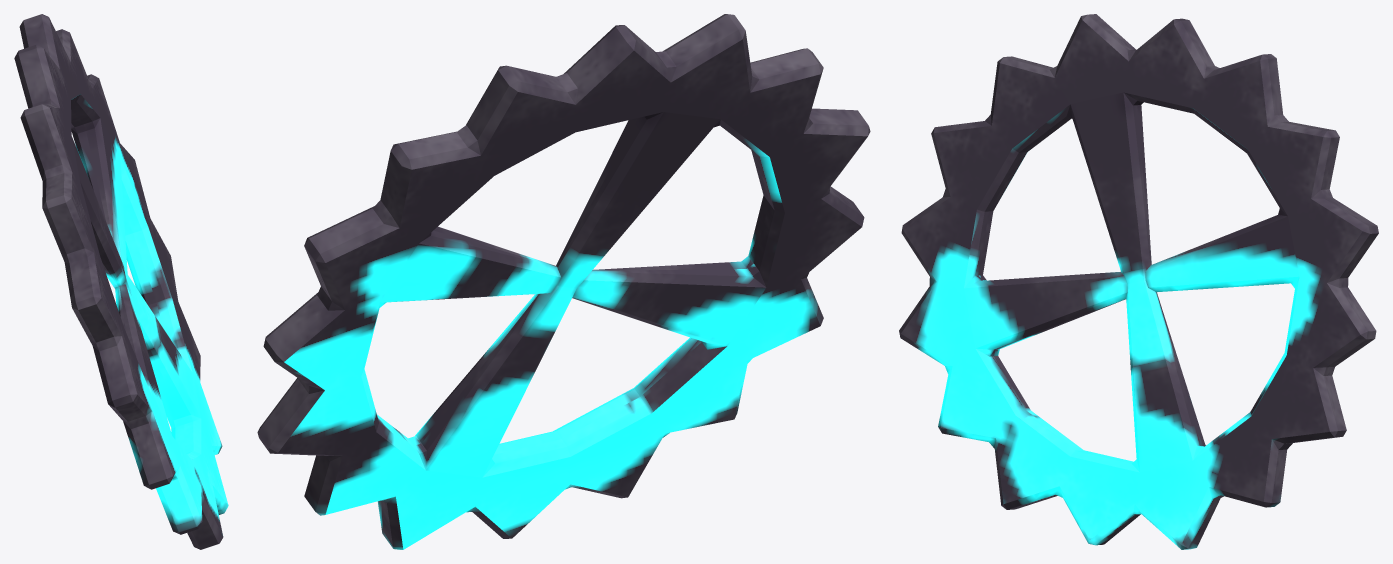
File: GearRusted.fbx
The picture shows the model from 3 angles, left to right: view 1: azimuth 30°, elevation 25°; view 2: azimuth 150°, elevation 25°; view 3: azimuth 270°, elevation 25°; orthographic projection. The views are drawn at different scales.
Parts seen in each view (by area): view 1: GearMetal; view 2: GearMetal; view 3: GearMetal.
Boxes of the visible parts, <box> form: GearMetal: <box>14,14,228,549</box>; GearMetal: <box>257,14,870,549</box>; GearMetal: <box>899,14,1378,549</box>.
Size of the model in its own units: 40.95 by 62.86 by 59.2.
